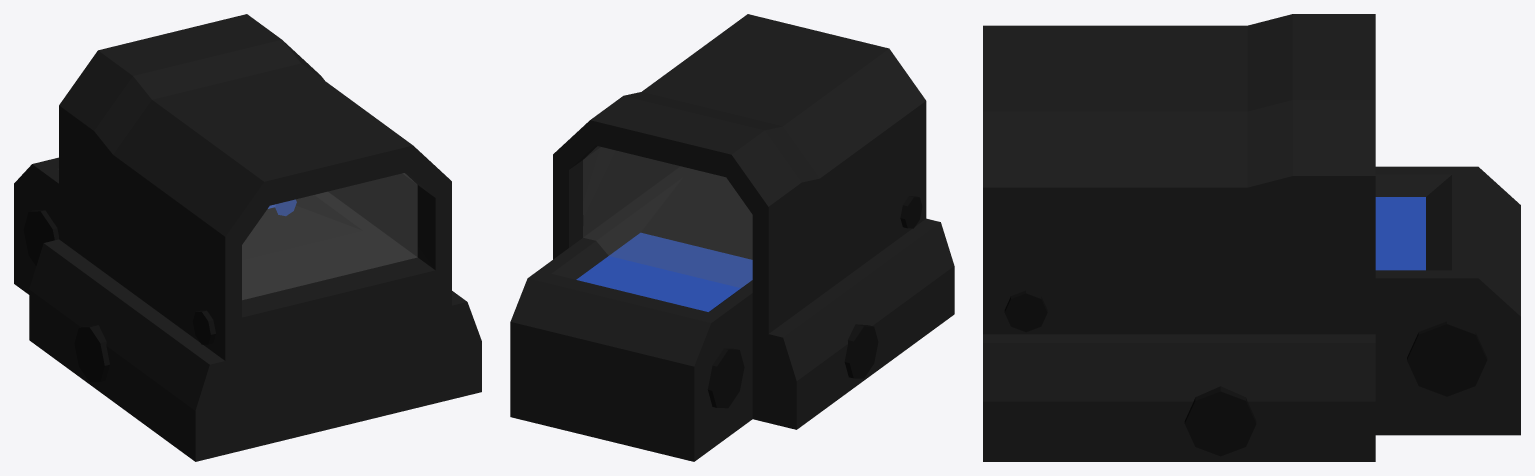
File: Reflex_West.glb
3 views of the same model, side by side, from view 1: azimuth 30°, elevation 25°; view 2: azimuth 150°, elevation 25°; view 3: azimuth 270°, elevation 25° (orthographic). The views are drawn at different scales.
Parts seen in each view (by area): view 1: Reflex_West; view 2: Reflex_West; view 3: Reflex_West.
Part boxes in pixels (<box>): Reflex_West: <box>14,14,481,461</box>; Reflex_West: <box>510,14,954,461</box>; Reflex_West: <box>983,14,1520,461</box>.
Bounding box in the file's own units: 0.0492 × 0.0433 × 0.0654.
